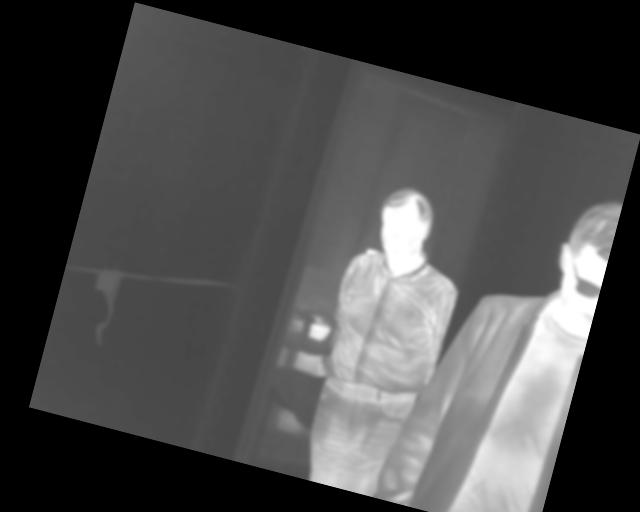face: (369, 181, 441, 270)
